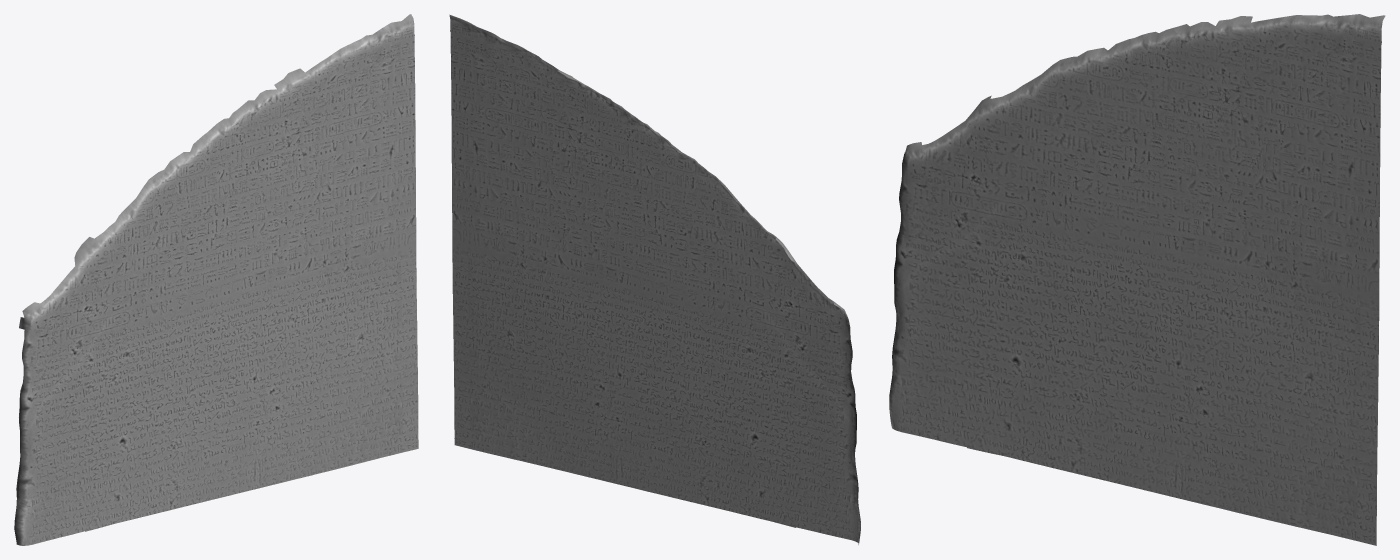
File: split1.obj
3 renders of one model, left to right at view 1: azimuth 30°, elevation 25°; view 2: azimuth 150°, elevation 25°; view 3: azimuth 330°, elevation 25°, orthographic. The views are drawn at different scales.
Size of the model in its own units: 0.4666 by 0.4765 by 0.0229.
1 material, 1 textured.
